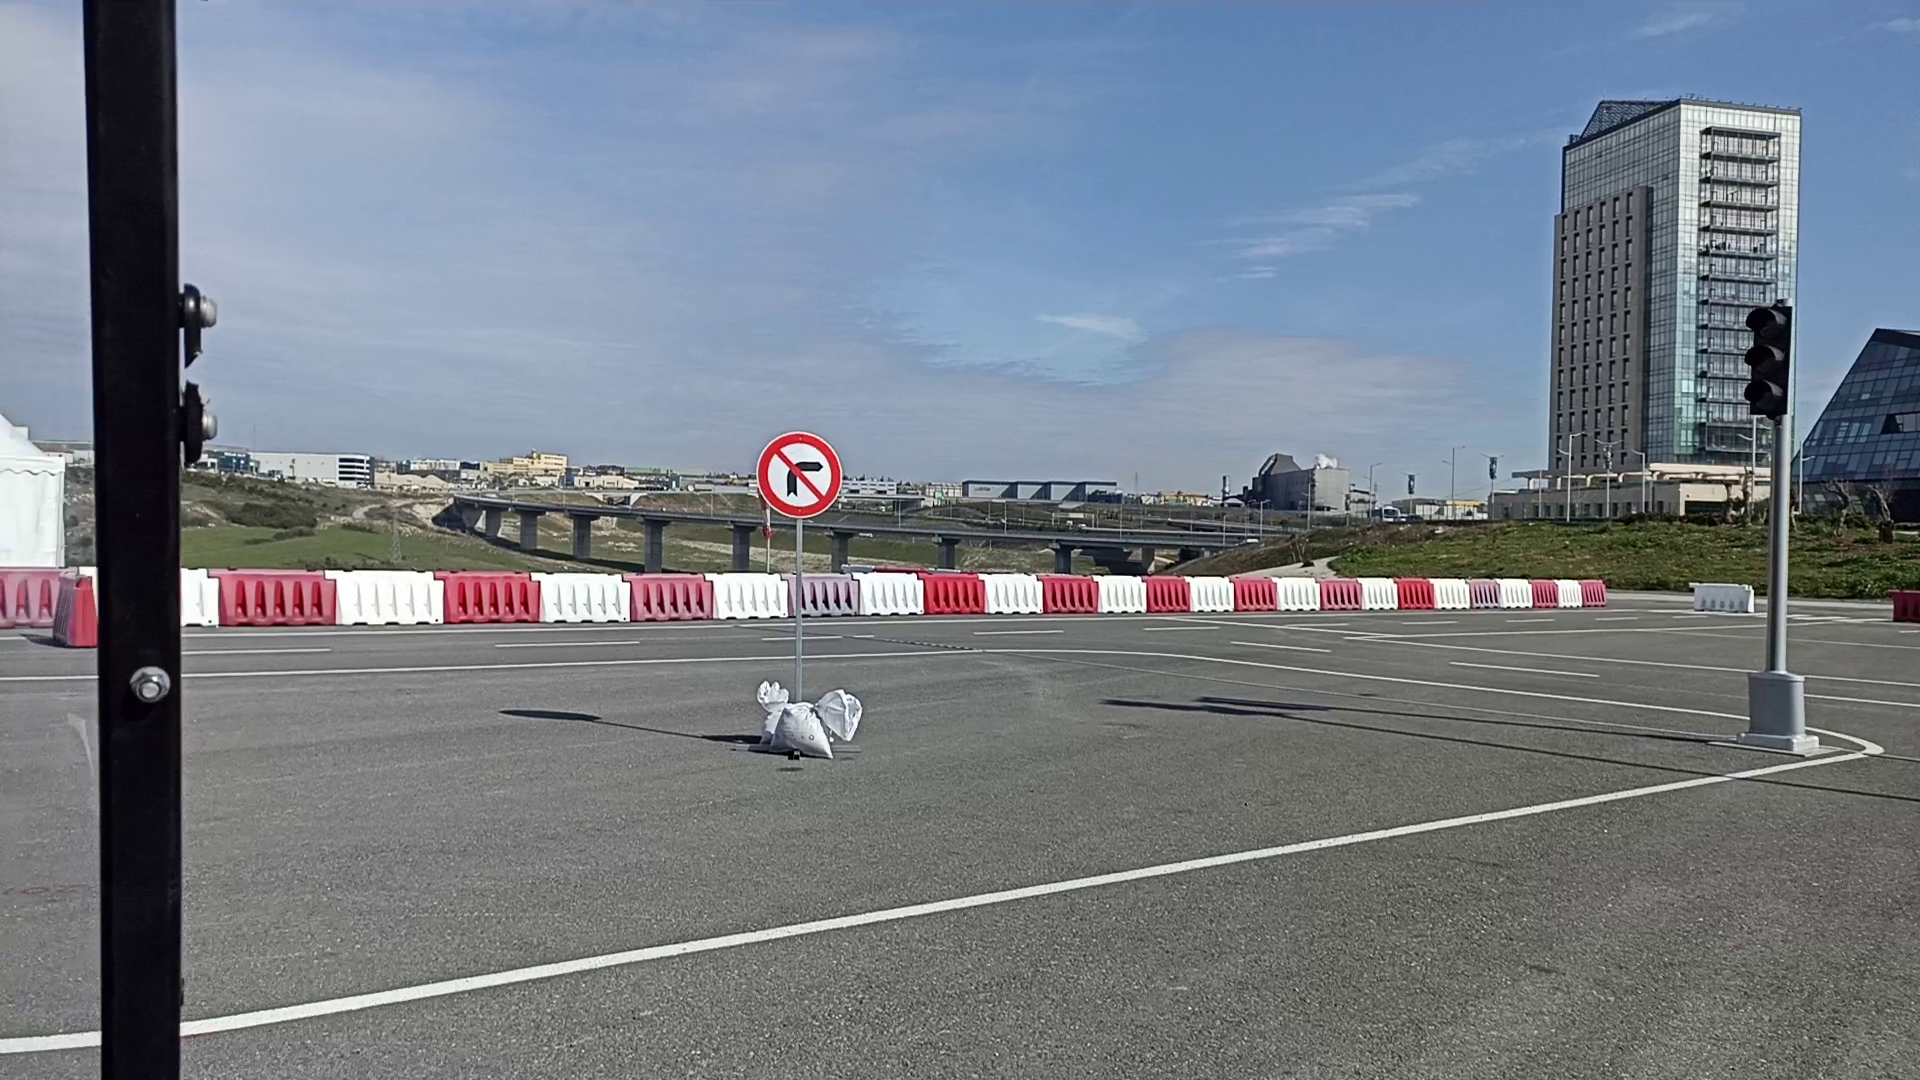noleftturn: (753, 429, 844, 521)
trafficlight: (1741, 295, 1795, 421)
